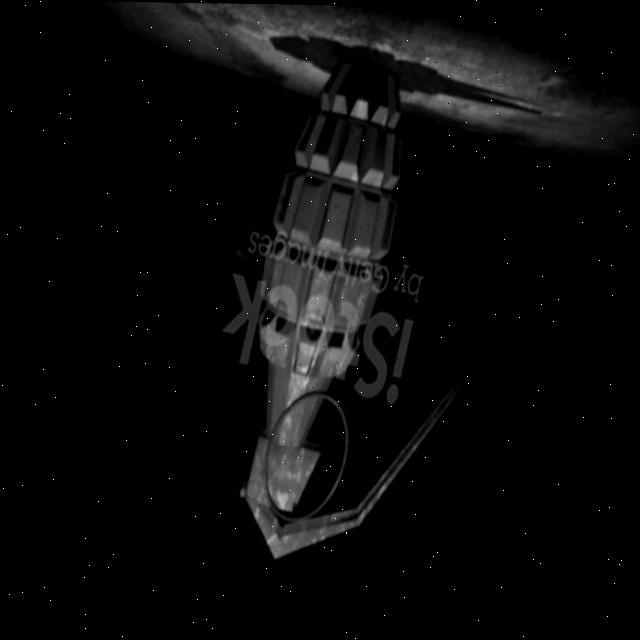grenade: (176, 51, 532, 607)
